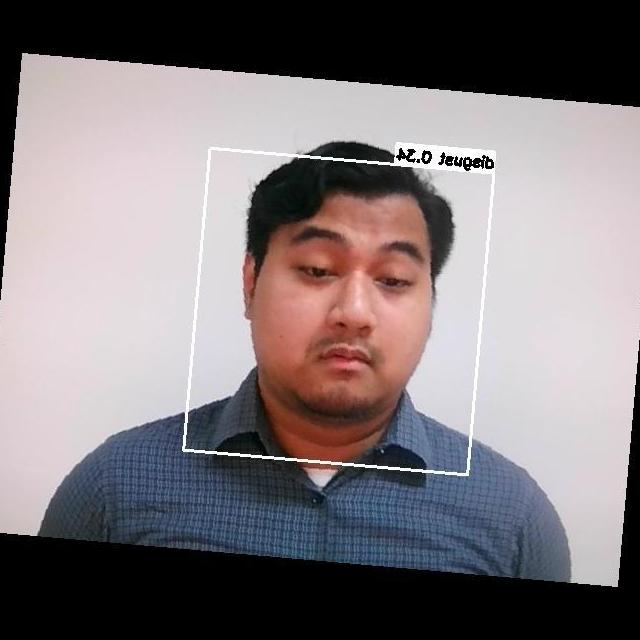Fear: (262, 209, 442, 416)
